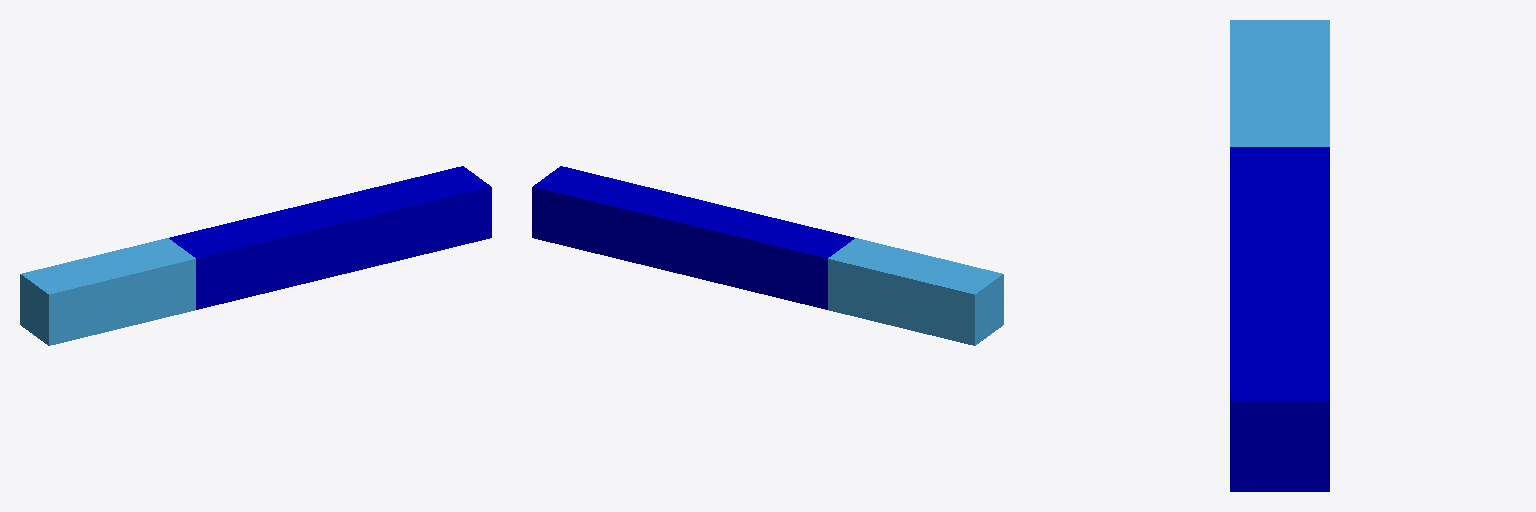
URDF robot description (Chain):
<?xml version="1.0" ?>
<!-- =================================================================================== -->
<!-- |    This document was autogenerated by xacro from chain1.xacro                   | -->
<!-- |    EDITING THIS FILE BY HAND IS NOT RECOMMENDED                                 | -->
<!-- =================================================================================== -->
<robot name="Chain" xmlns:xacro="http://www.ros.org/wiki/xacro">
  <link name="baselink"/>
  <link name="chainbase">
    <visual>
      <geometry>
        <box size="0.3 0.1 0.1"/>
      </geometry>
    </visual>
    <inertial>
      <mass value="1"/>
      <inertia ixx="0.00666666666667" ixy="0.0" ixz="0.0" iyy="0.0333333333333" iyz="0.0" izz="0.0333333333333"/>
    </inertial>
  </link>
  <link name="link1">
    <visual>
      <origin rpy="0 0 0" xyz="0.15 0.0 0"/>
      <geometry>
        <box size="0.3 0.1 0.1"/>
      </geometry>
      <material name="blue">
        <color rgba="0 0 0.8 1"/>
      </material>
    </visual>
    <inertial>
      <origin rpy="0 0 0" xyz="0.15 0.0 0"/>
      <mass value="1"/>
      <inertia ixx="0.00666666666667" ixy="0.0" ixz="0.0" iyy="0.0333333333333" iyz="0.0" izz="0.0333333333333"/>
    </inertial>
  </link>
  <link name="link2">
    <visual>
      <origin rpy="0 0 0" xyz="0.15 0.0 0"/>
      <geometry>
        <box size="0.3 0.1 0.1"/>
      </geometry>
      <material name="blue">
        <color rgba="0 0 0.8 1"/>
      </material>
    </visual>
    <inertial>
      <origin rpy="0 0 0" xyz="0.15 0.0 0"/>
      <mass value="1"/>
      <inertia ixx="0.00666666666667" ixy="0.0" ixz="0.0" iyy="0.0333333333333" iyz="0.0" izz="0.0333333333333"/>
    </inertial>
  </link>
  <!-- Joints -->
  <joint name="basetoroot" type="fixed">
    <parent link="baselink"/>
    <child link="chainbase"/>
    <origin rpy="0 0 0" xyz="0 0 0"/>
  </joint>
  <joint name="roottolink1" type="revolute">
    <parent link="chainbase"/>
    <child link="link1"/>
    <origin rpy="0 0 0" xyz="0.15 0.0 0"/>
    <axis xyz="0 0 1"/>
    <limit effort="30" lower="-5" upper="5" velocity="5.0"/>
  </joint>
  <joint name="link1tolink2" type="revolute">
    <parent link="link1"/>
    <child link="link2"/>
    <origin rpy="0 0 0" xyz="0.3 0.0 0"/>
    <axis xyz="0 0 1"/>
    <limit effort="30" lower="-5" upper="5" velocity="5.0"/>
  </joint>
</robot>

--- Render facts (derived) ---
3 views of the same robot in one strip: view 1: azimuth 30°, elevation 25°; view 2: azimuth 150°, elevation 25°; view 3: azimuth 270°, elevation 25° (orthographic).
Model Chain with 4 links and 3 joints (2 revolute, 1 fixed), rooted at baselink, posed every joint at zero.
Links seen in each view (by area): view 1: chainbase, link2, link1; view 2: chainbase, link2, link1; view 3: link2, chainbase, link1.
Boxes of the visible links, x1,y1,x2,y2 form: chainbase: (20, 238, 195, 345); link2: (316, 166, 491, 273); link1: (169, 202, 343, 309); chainbase: (828, 238, 1003, 345); link2: (532, 166, 707, 273); link1: (680, 202, 854, 309); link2: (1230, 274, 1329, 491); chainbase: (1230, 20, 1329, 146); link1: (1230, 147, 1329, 273).
Bounding box of the posed robot: 0.9 × 0.1 × 0.1 m (x, y, z).
Geometry: primitives only (box / cylinder / sphere), no mesh files.